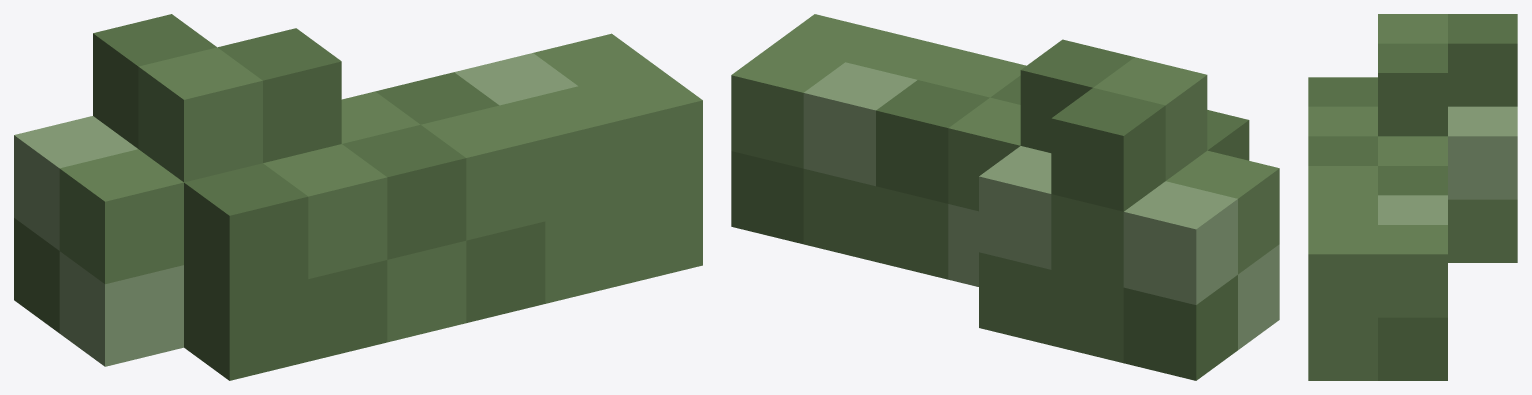
Rendered from alian_1-0.obj.
The picture shows the model from 3 angles, left to right: view 1: azimuth 30°, elevation 25°; view 2: azimuth 150°, elevation 25°; view 3: azimuth 270°, elevation 25°; orthographic projection. The views are drawn at different scales.
Size of the model in its own units: 0.7 by 0.3 by 0.3.
1 material, 1 textured.
